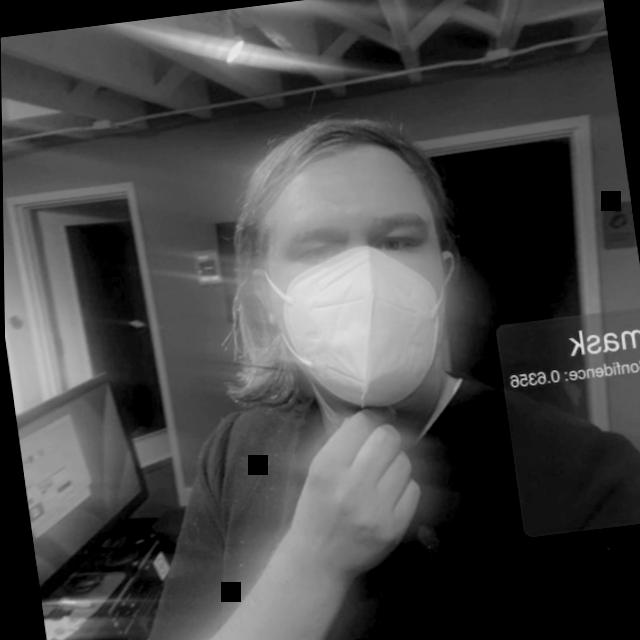Mask: (220, 94, 494, 442)
